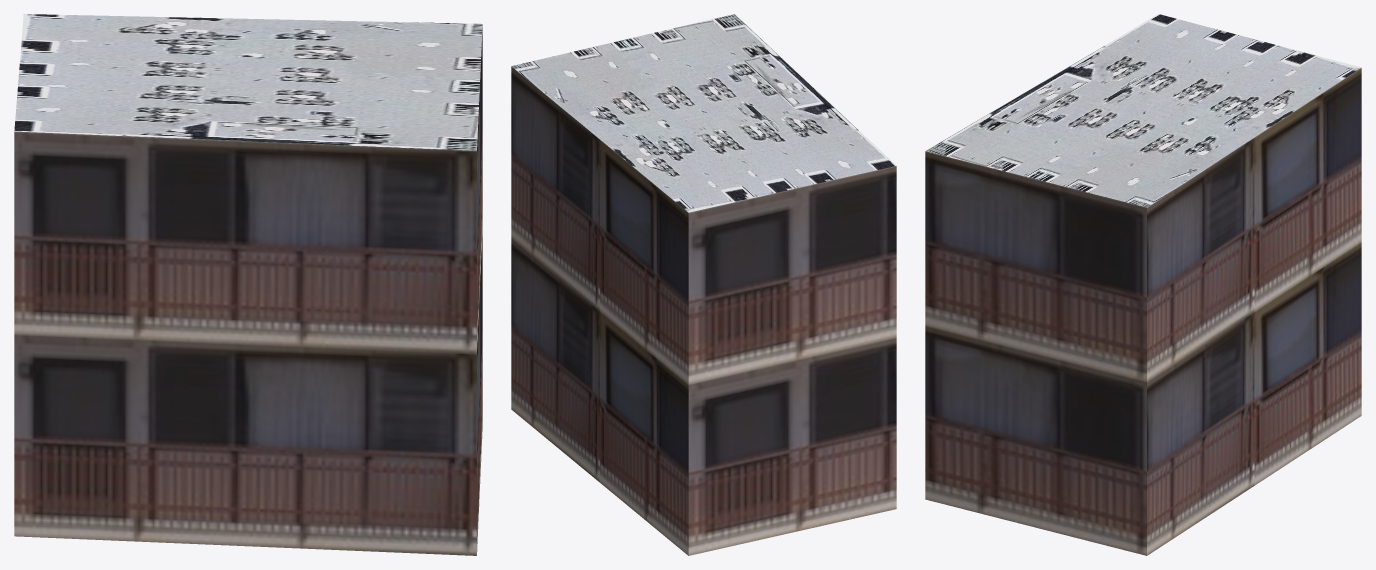
File: ResTex__4291.fbx
The picture shows the model from 3 angles, left to right: view 1: azimuth 30°, elevation 25°; view 2: azimuth 150°, elevation 25°; view 3: azimuth 270°, elevation 25°; orthographic projection. The views are drawn at different scales.
Parts seen in each view (by area): view 1: CityEngineMaterial_6_m, CityEngineMaterial_8_m; view 2: CityEngineMaterial_6_m, CityEngineMaterial_8_m; view 3: CityEngineMaterial_6_m, CityEngineMaterial_8_m.
Part boxes in pixels (left/top/right/bottom): CityEngineMaterial_6_m: left=14, top=27, right=482, bottom=555; CityEngineMaterial_8_m: left=14, top=14, right=482, bottom=150; CityEngineMaterial_6_m: left=511, top=66, right=896, bottom=555; CityEngineMaterial_8_m: left=511, top=14, right=896, bottom=212; CityEngineMaterial_6_m: left=925, top=68, right=1361, bottom=555; CityEngineMaterial_8_m: left=925, top=14, right=1361, bottom=207.
Size of the model in its own units: 7.16 by 6 by 6.82.
Materials: 2 (2 with a texture image).
